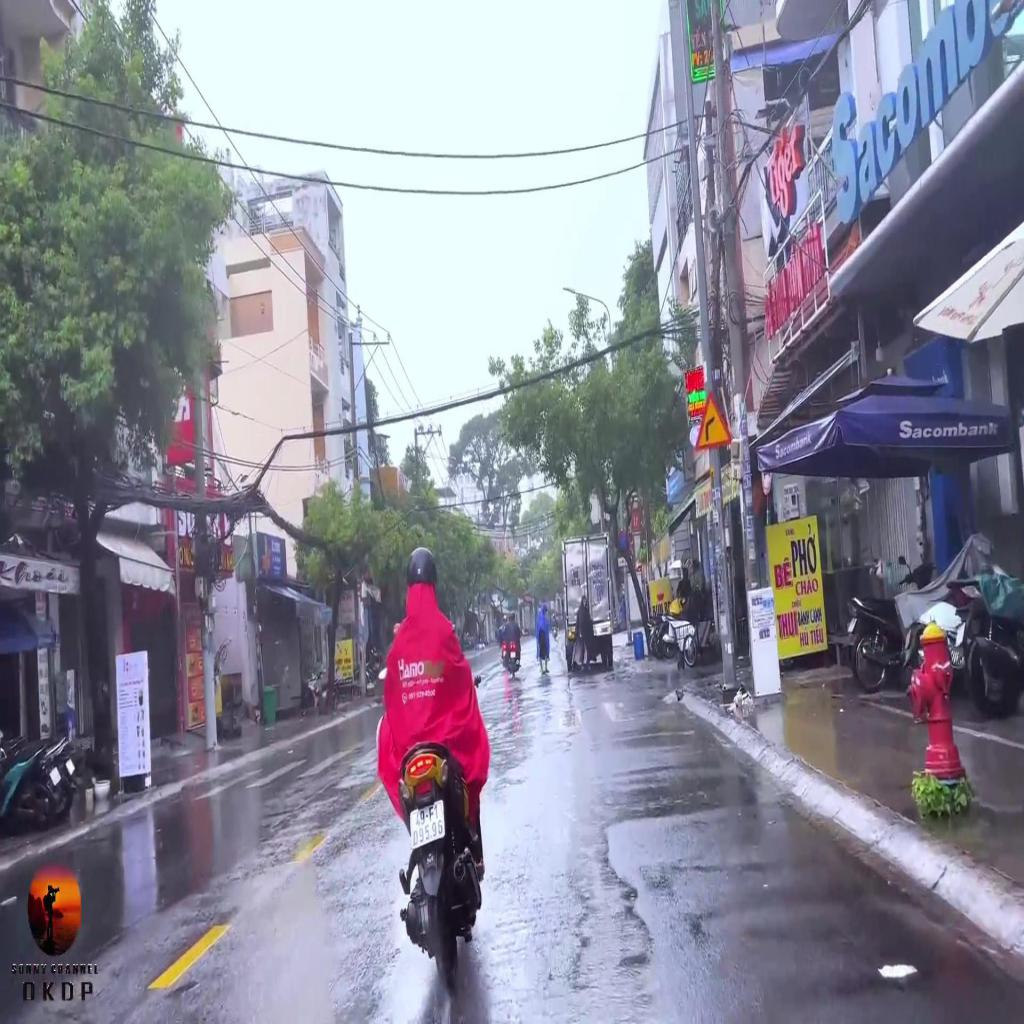cho_ngoat_nguy_hiem_ben_phai: (695, 390, 731, 450)
